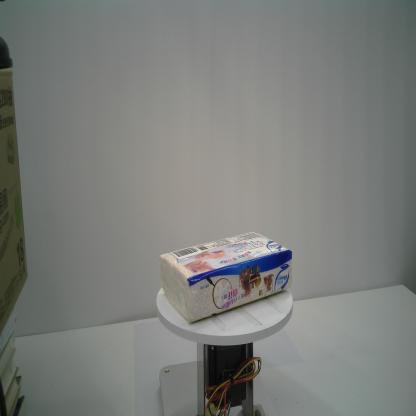Tissue: (159, 231, 292, 323)
